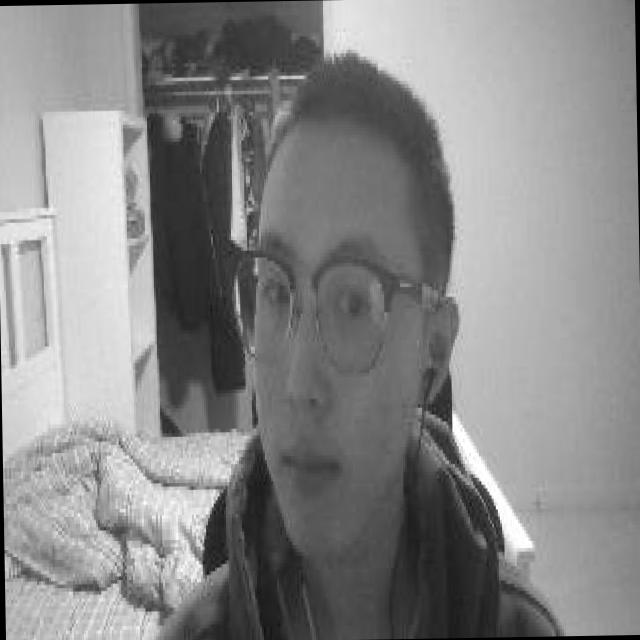Focused: (228, 212, 414, 528)
